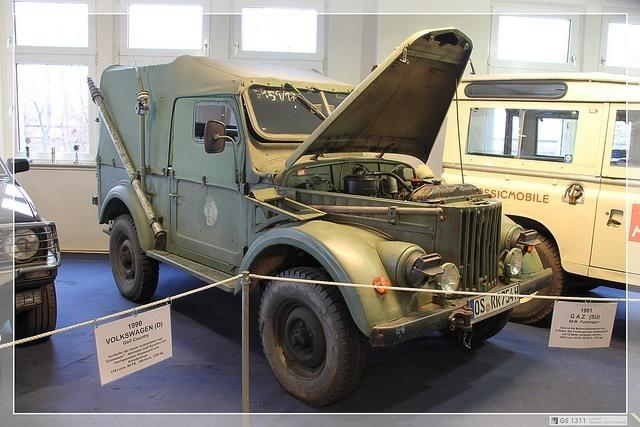truck: (86, 25, 557, 406), (424, 71, 640, 325), (1, 142, 60, 349)
